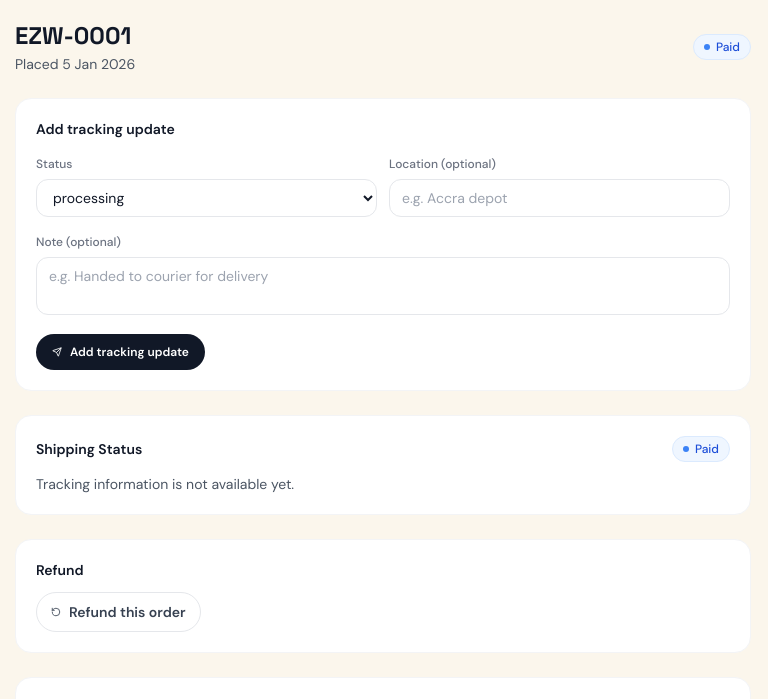
Test: Order detail — refund section (T15) › confirms then submits a refund with the entered reason
This screenshot has width=768, height=699.
Click the button "Refund this order" at (118, 612), box [36,592,201,632]
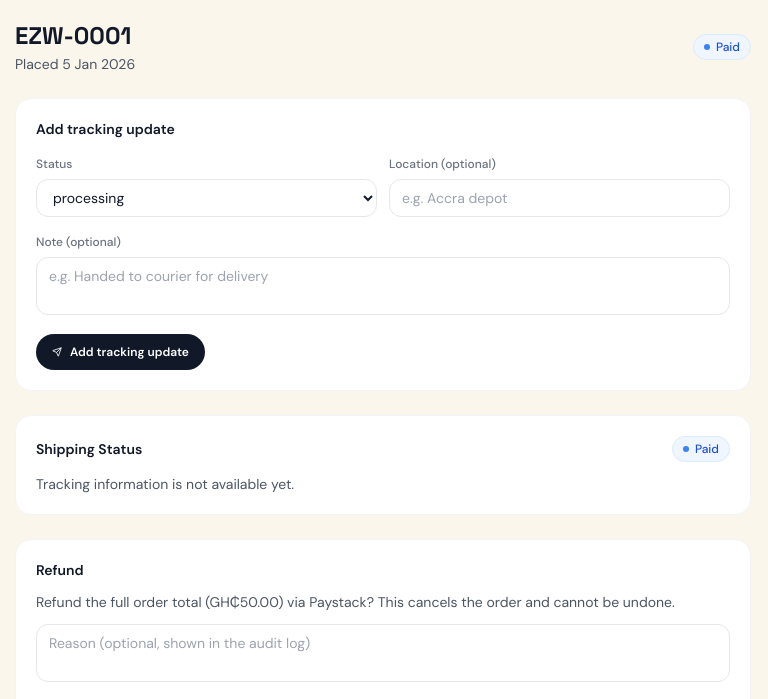
Type "Customer changed mind" into the text box with placeholder "Reason (optional, shown in the audit log)" at (383, 652), box [36,624,730,682]
(page scrolled)
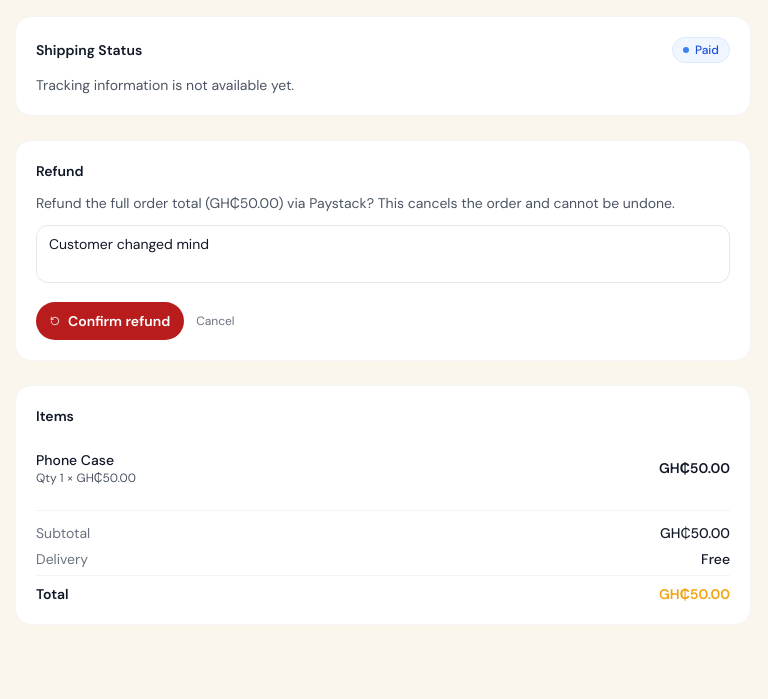
Click the button "Confirm refund" at (110, 321), box [36,302,184,340]
(page scrolled)
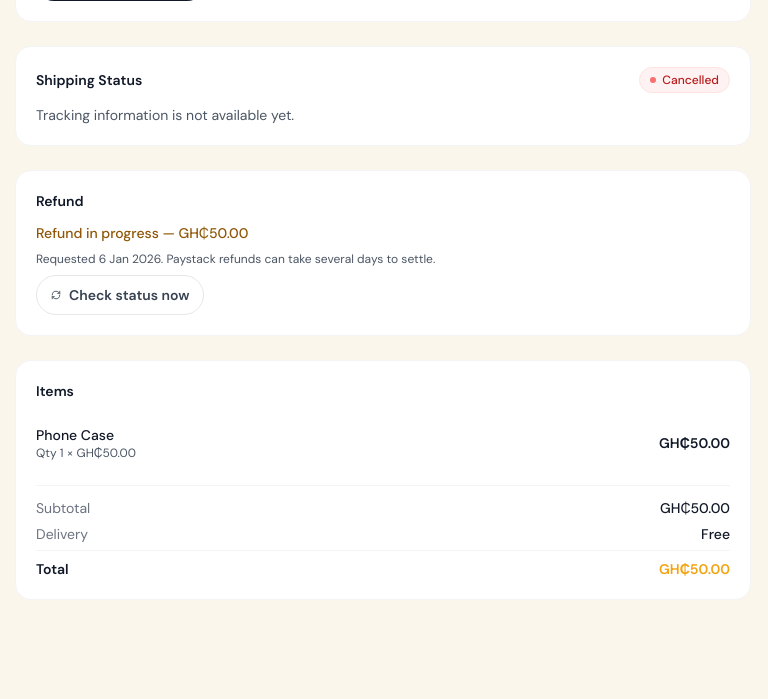
Now the text "Refund in progress — GH₵50.00" is shown, box [36,224,248,242]
